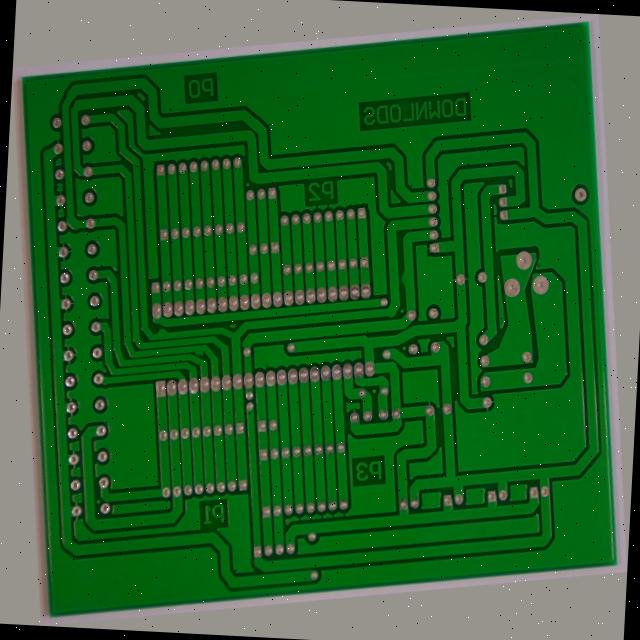spur: (411, 273, 423, 301), (138, 301, 160, 316), (178, 331, 194, 344)
